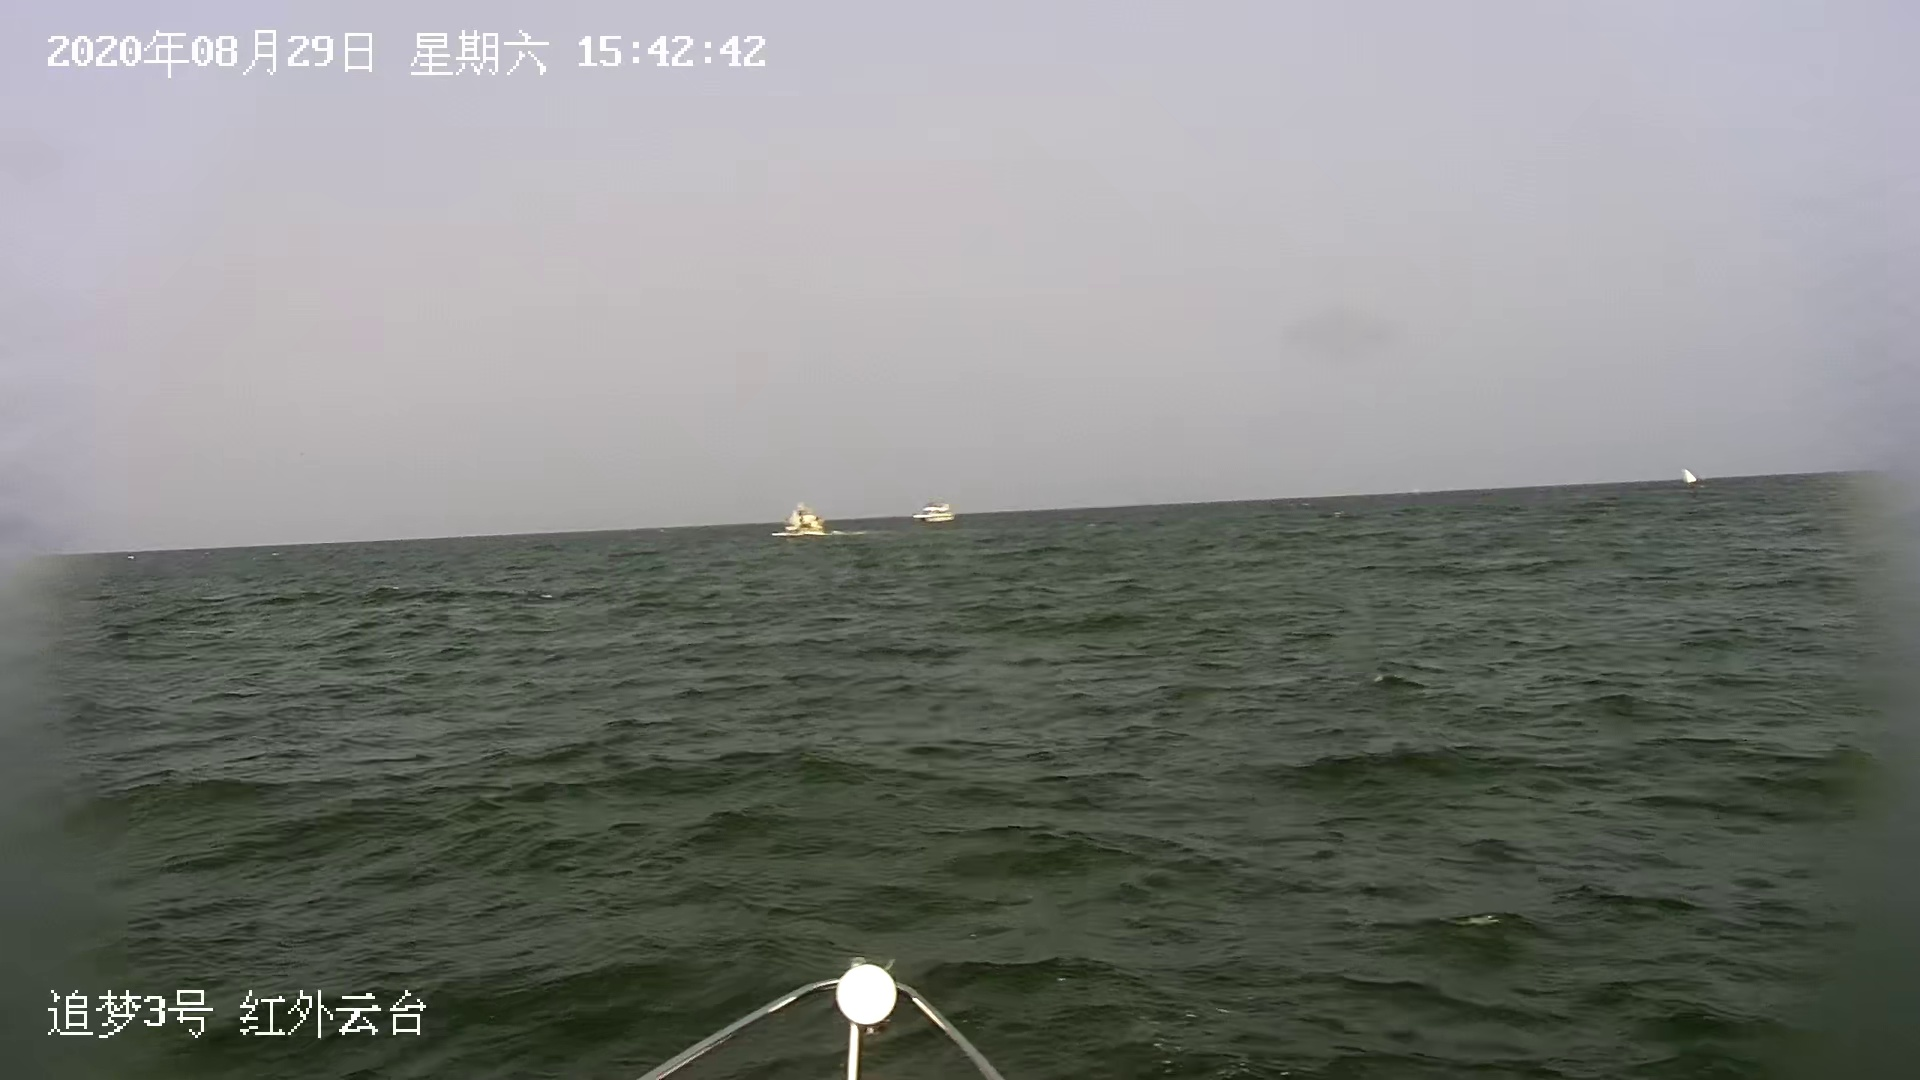barrier: (767, 501, 853, 538), (909, 500, 956, 526), (1677, 464, 1698, 487)
this: (634, 957, 1017, 1079)
